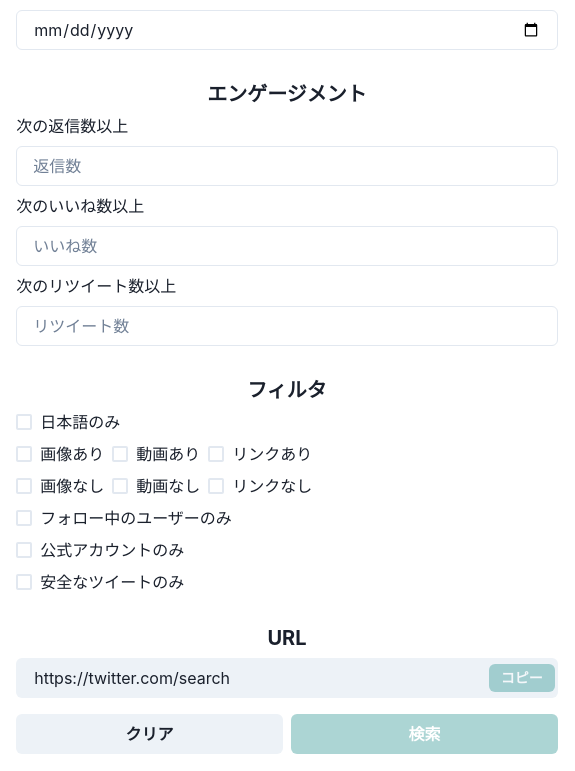
Scenario: フィルタ検索 › 画像あり
(page scrolled)
Check the checkbox labelled "画像あり": x=60, y=454 [16, 442, 104, 466]
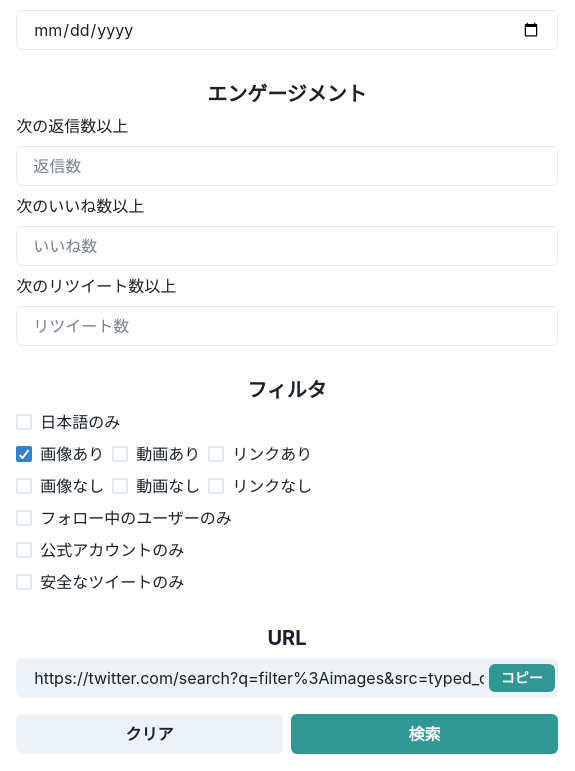
Check: the field with test id "url" holds "https://twitter.com/search?q=filter%3Aimages&src=typed_query", box [16, 658, 558, 698]
